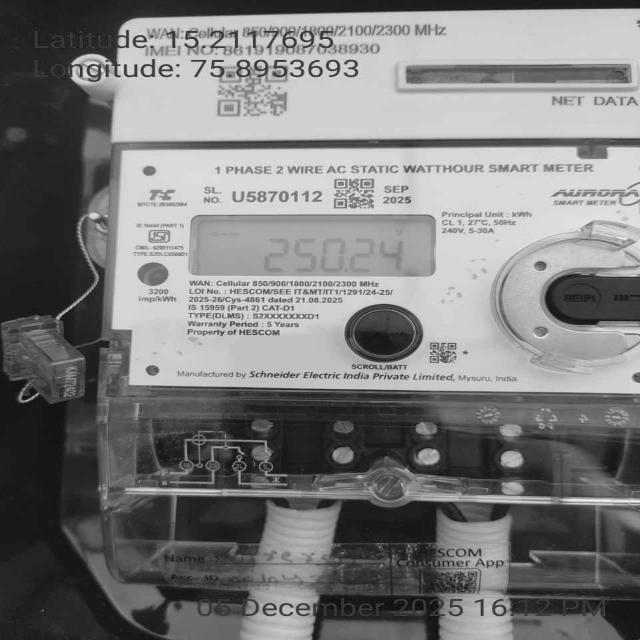meter: (115, 15, 640, 393)
